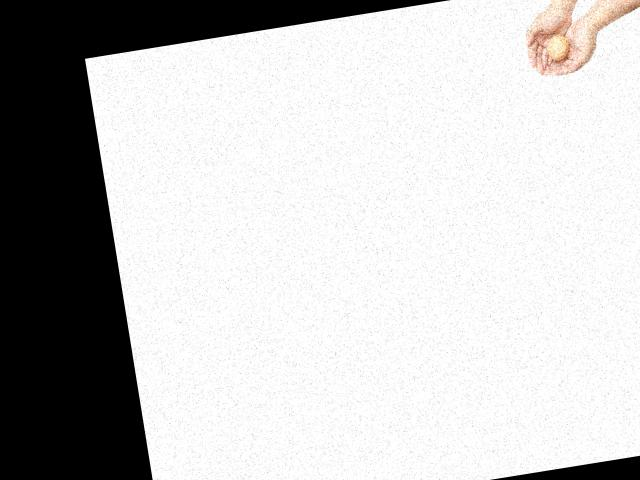egg: (546, 33, 571, 60)
